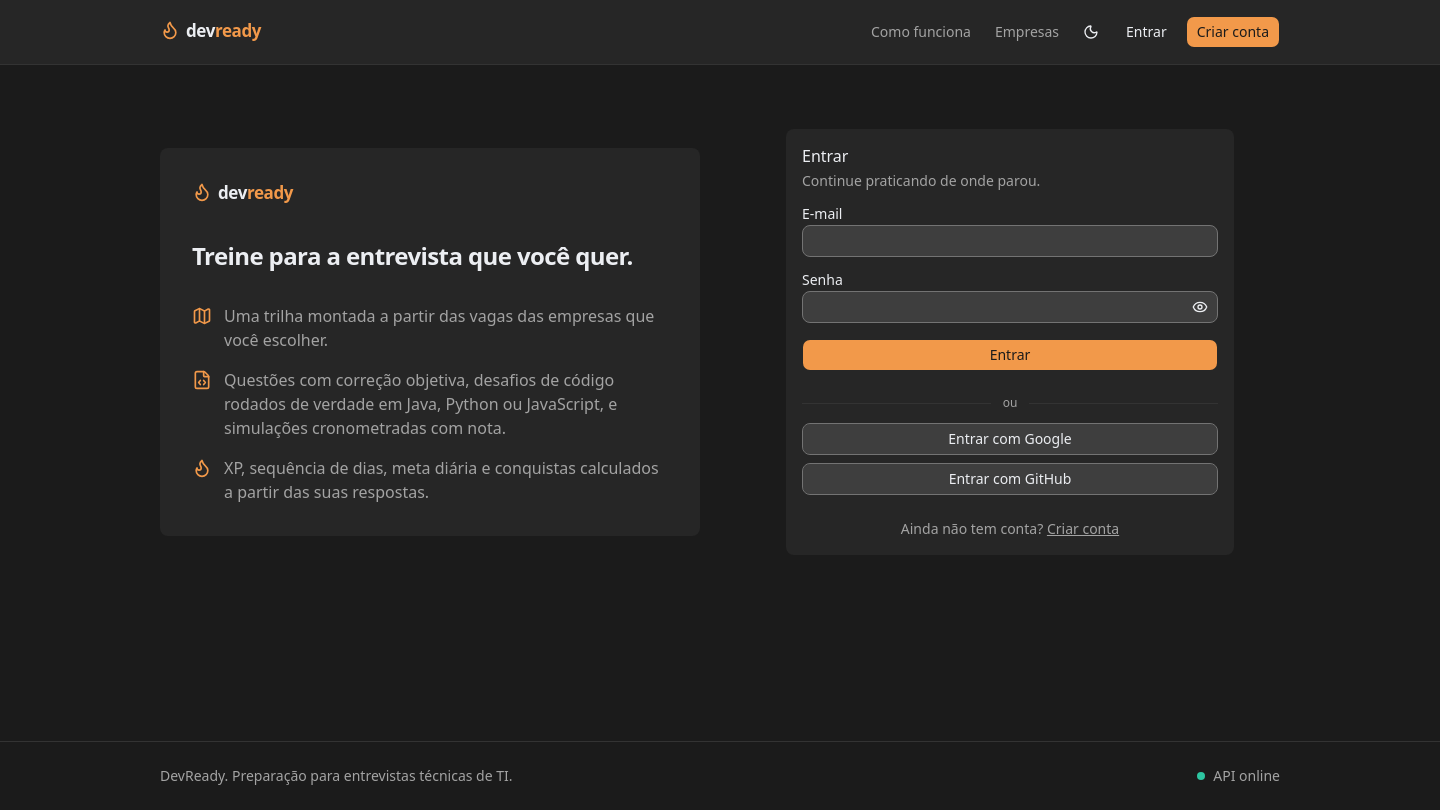
Test: LoginPage › mostra o erro da API em credenciais inválidas
The width and height of the screenshot is (1440, 810).
Type "ana@example.com" into the field labelled "E-mail" at (1010, 241), box [802,225,1218,257]
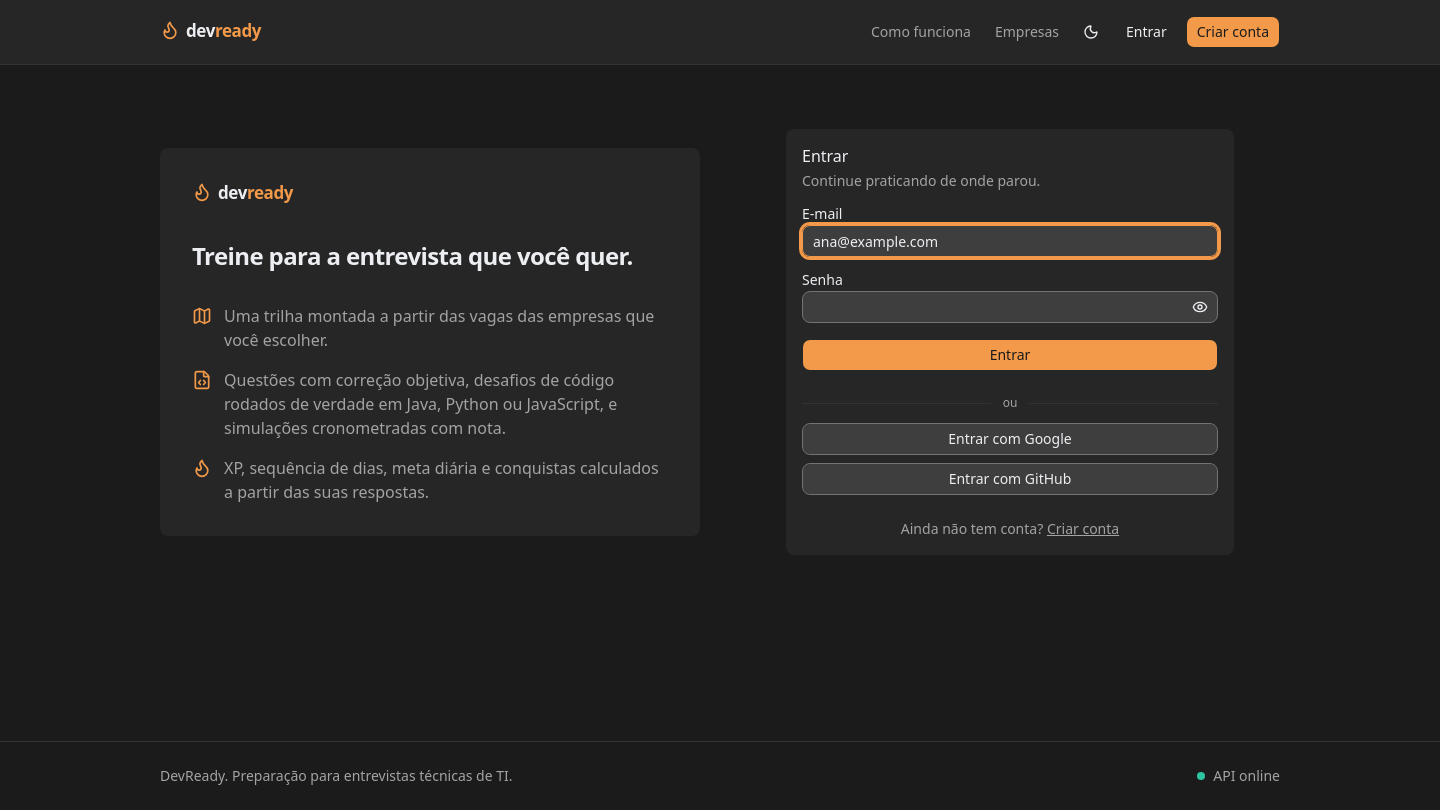
Type "errada-123" into the password field labelled "Senha" at (1010, 307), box [802,291,1218,323]
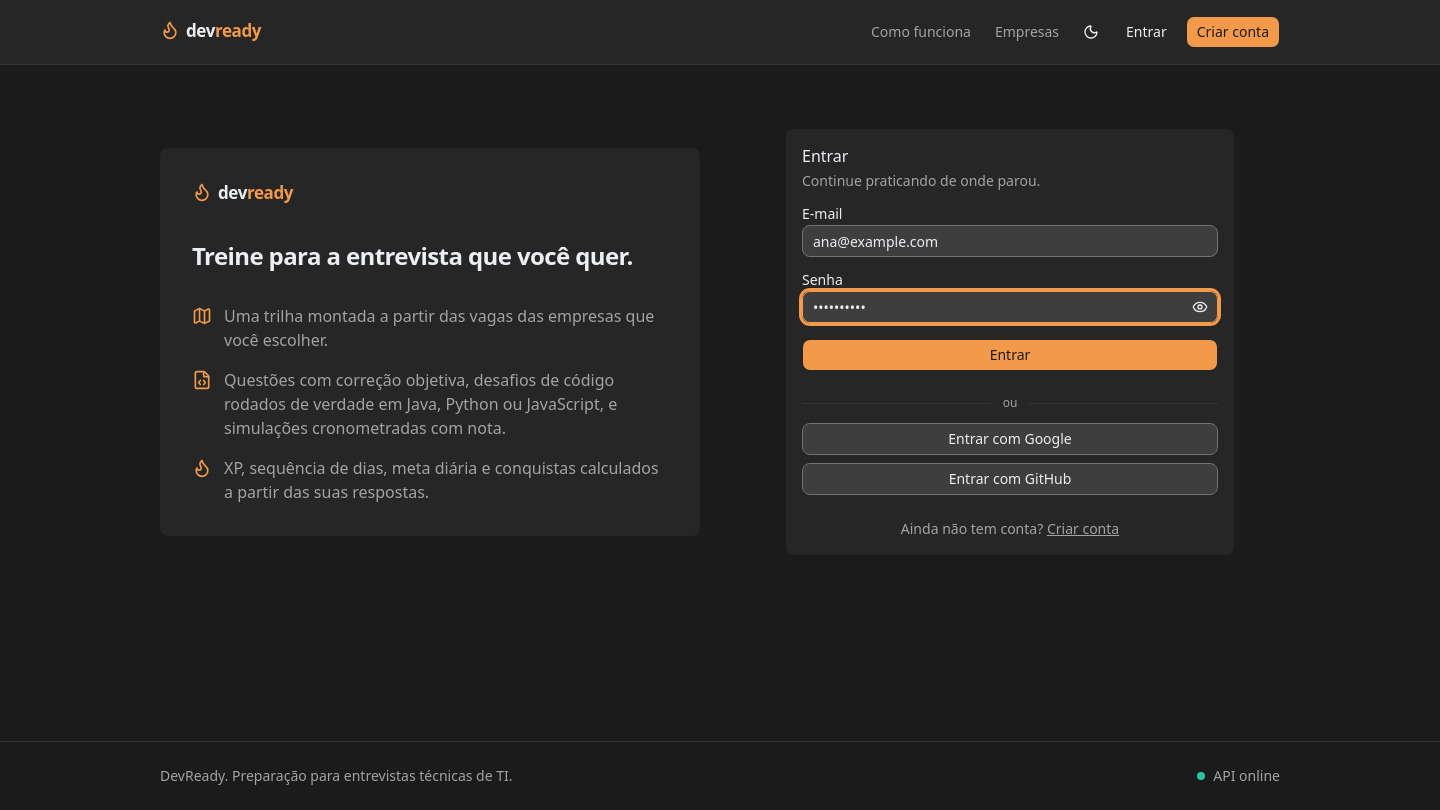
Click the button "Entrar" at (1010, 355), box [802,339,1218,371]
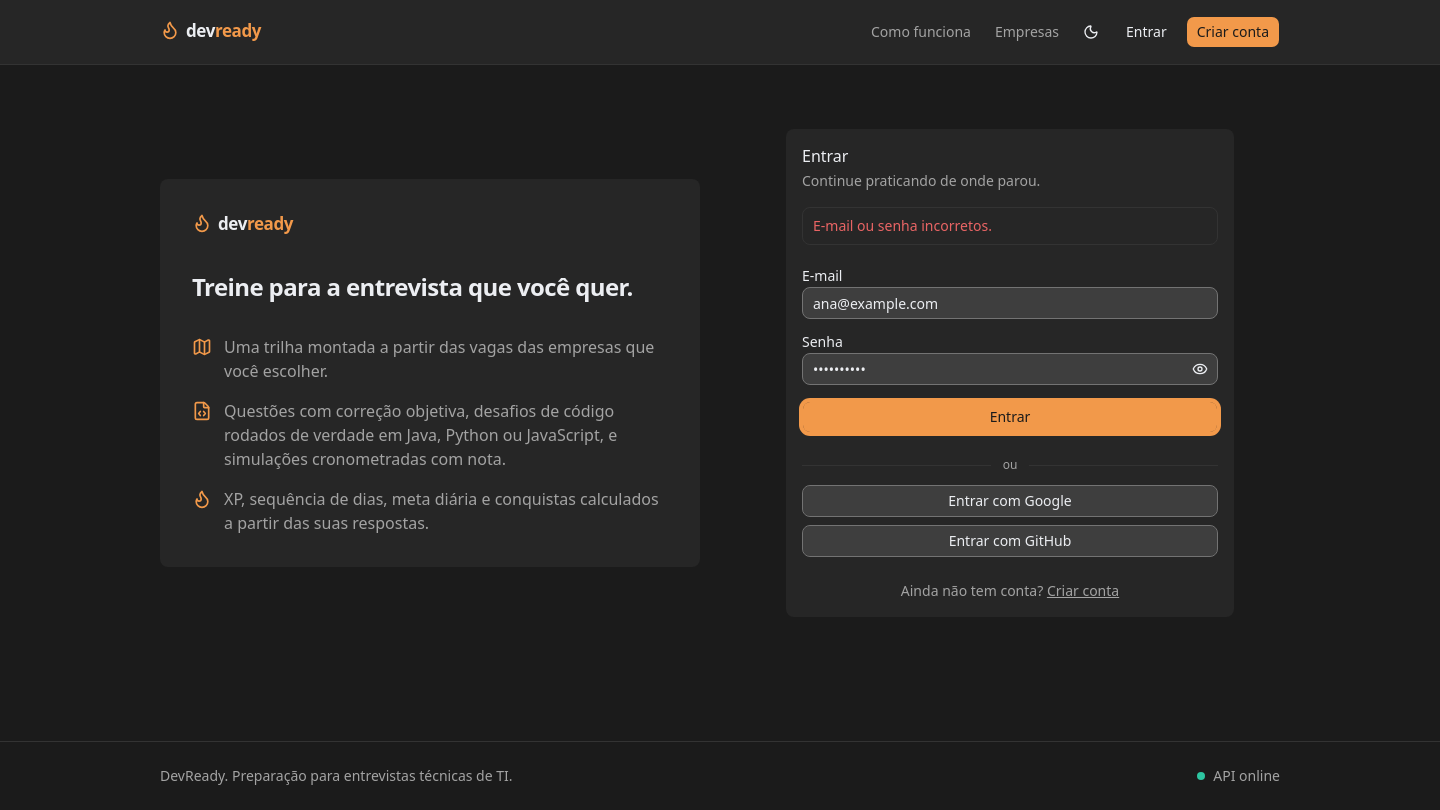
Check: the message reads "E-mail ou senha incorretos.", box [813,216,992,235]
